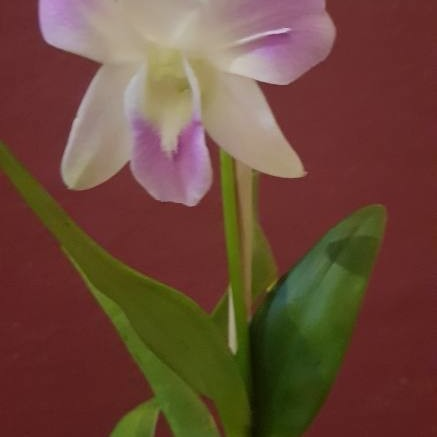obstacle: (41, 4, 383, 415)
